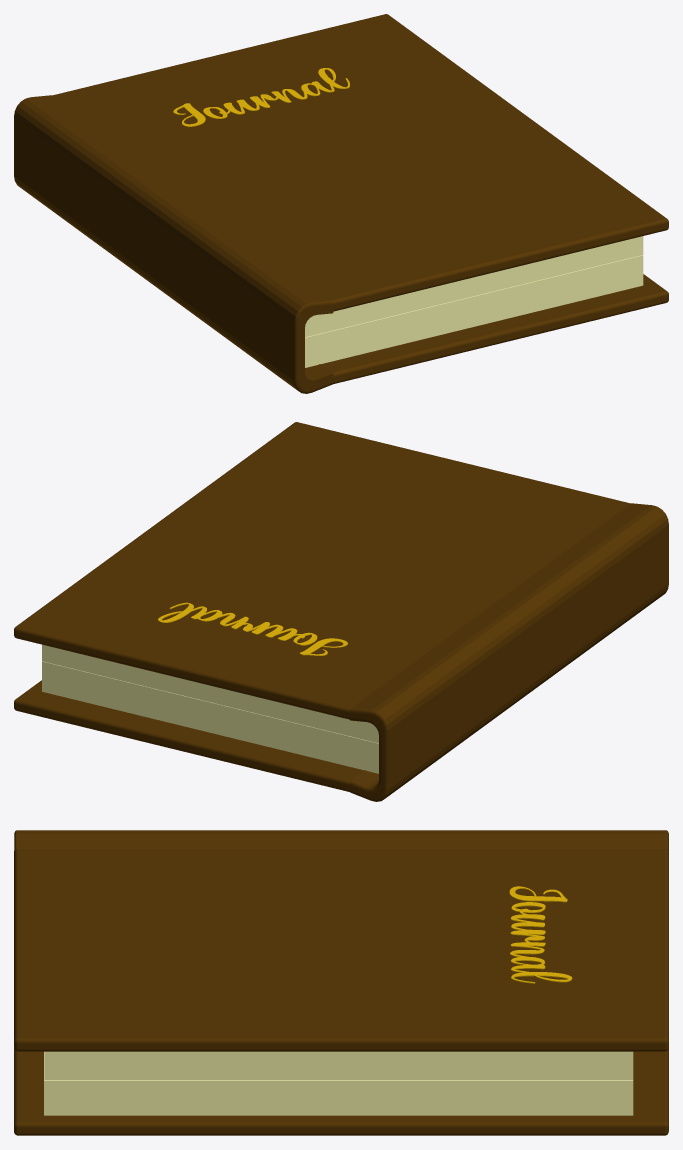
File: ClosedJournal.fbx
3 renders of one model, top to bottom at view 1: azimuth 30°, elevation 25°; view 2: azimuth 150°, elevation 25°; view 3: azimuth 270°, elevation 25°, orthographic. The views are drawn at different scales.
Parts seen in each view (by area): view 1: Cube.005, ClosedStem, Cube, Title; view 2: Cube.005, ClosedStem, Cube, Title; view 3: Cube.005, Cube, ClosedStem, Title.
Boxes of the visible parts, <box> form: Cube.005: <box>52,14,668,337</box>; ClosedStem: <box>14,95,333,393</box>; Cube: <box>305,255,668,384</box>; Title: <box>173,68,349,126</box>; Cube.005: <box>14,422,630,743</box>; ClosedStem: <box>349,503,668,801</box>; Cube: <box>14,661,378,791</box>; Title: <box>158,602,347,655</box>; Cube.005: <box>14,849,668,1079</box>; Cube: <box>14,1048,668,1135</box>; ClosedStem: <box>14,830,668,851</box>; Title: <box>509,886,572,983</box>.
Bounding box in the file's own units: 221 × 50.77 × 288.
